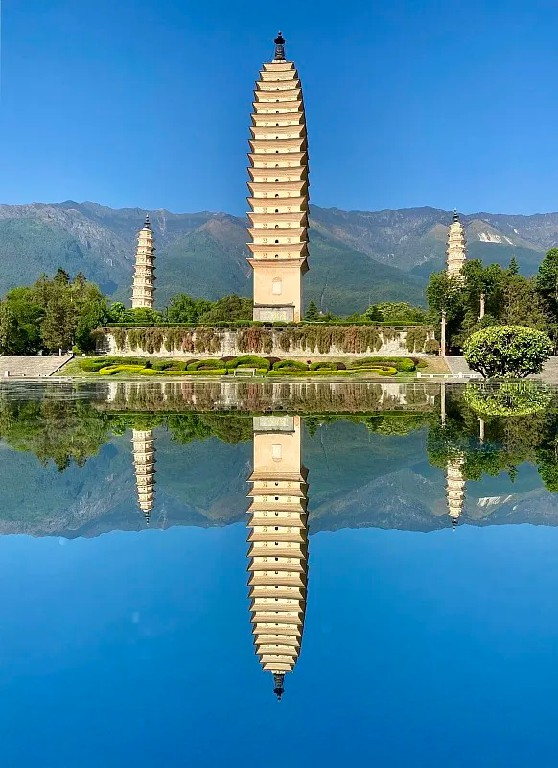ThreePagoda: (245, 31, 311, 323)
